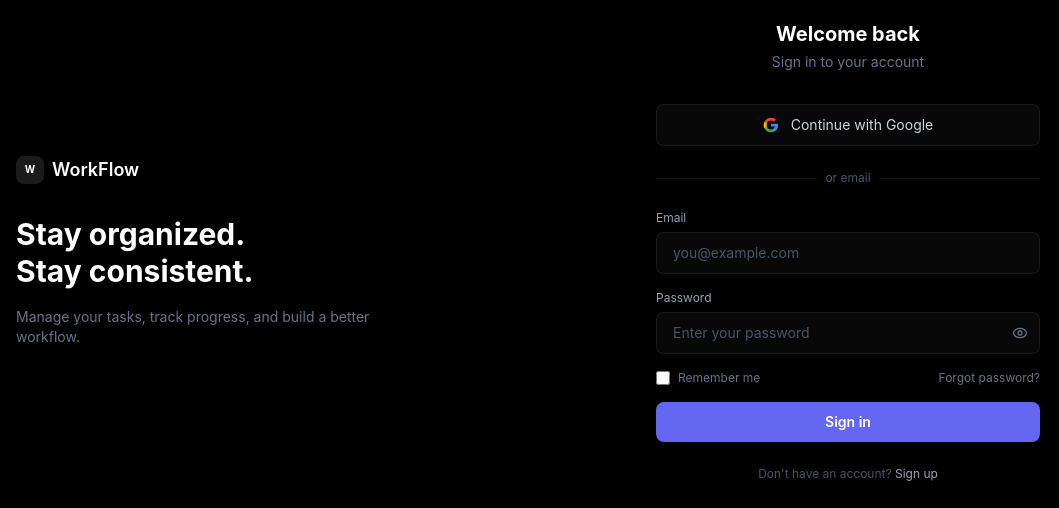
Test: Login › should show invalid email error for invalid format
This screenshot has width=1059, height=508.
In the field with placeholder "you@example.com": (848, 253) [656,232,1040,274], type "invalid@email"
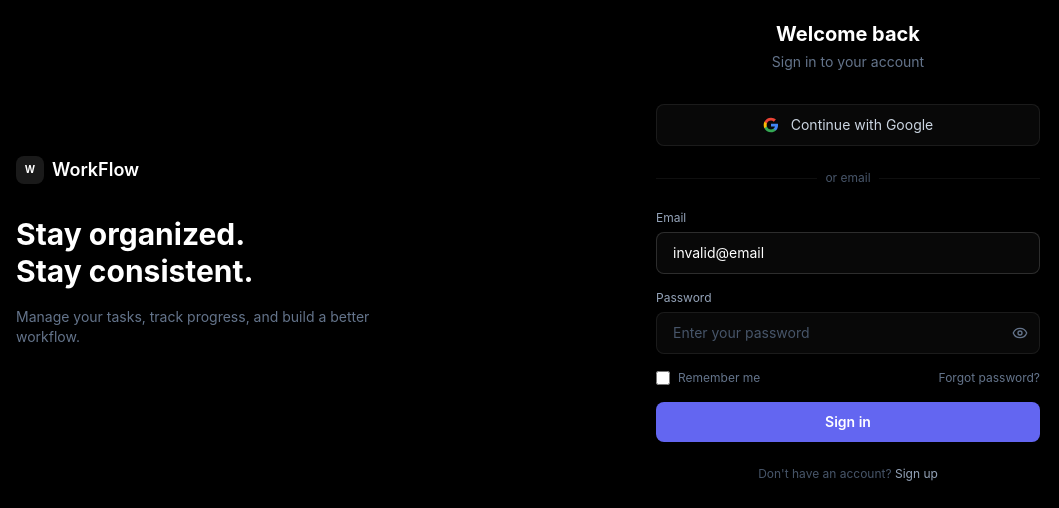
In the password field with placeholder "Enter your password": (848, 333) [656,312,1040,354], type "password123"
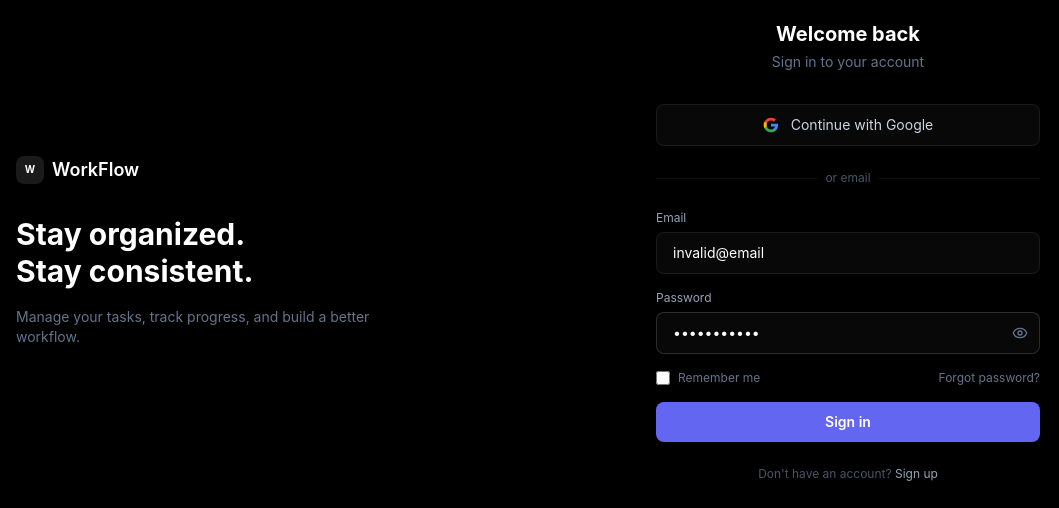
Click the button "Sign in": (848, 422) [656,402,1040,442]
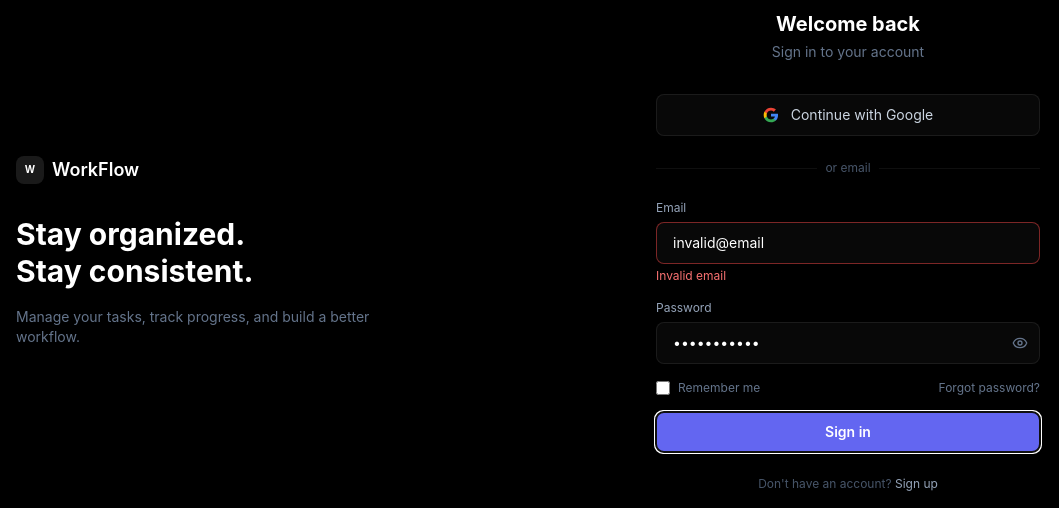
Check: the text "Invalid email" is shown, box [656,268,726,283]
